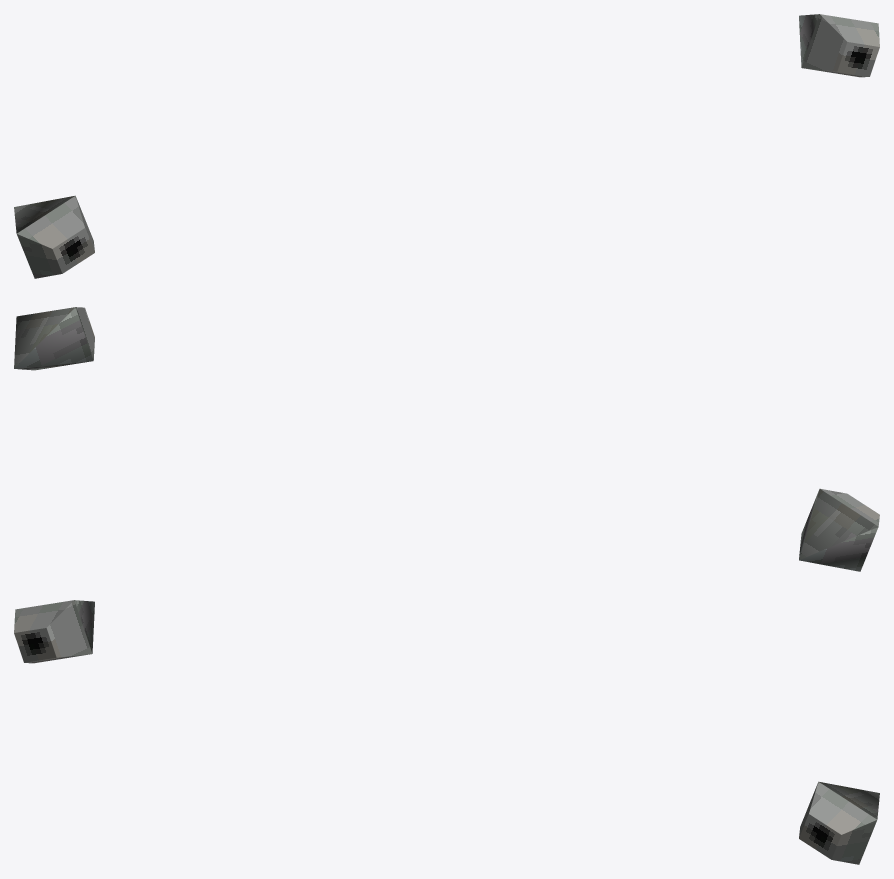
File: hutt_fighter_light_weapon_s03_l3.fbx
3 views of the same model, one above another, from view 1: azimuth 30°, elevation 25°; view 2: azimuth 150°, elevation 25°; view 3: azimuth 330°, elevation 25° (orthographic).
Visible parts, largest first — view 1: mesh_node; view 2: mesh_node; view 3: mesh_node.
Boxes of the visible parts, <box> form: mesh_node: <box>14,14,879,278</box>; mesh_node: <box>14,307,879,571</box>; mesh_node: <box>14,600,879,864</box>.
Size of the model in its own units: 3.59 by 0.2915 by 0.4311.
